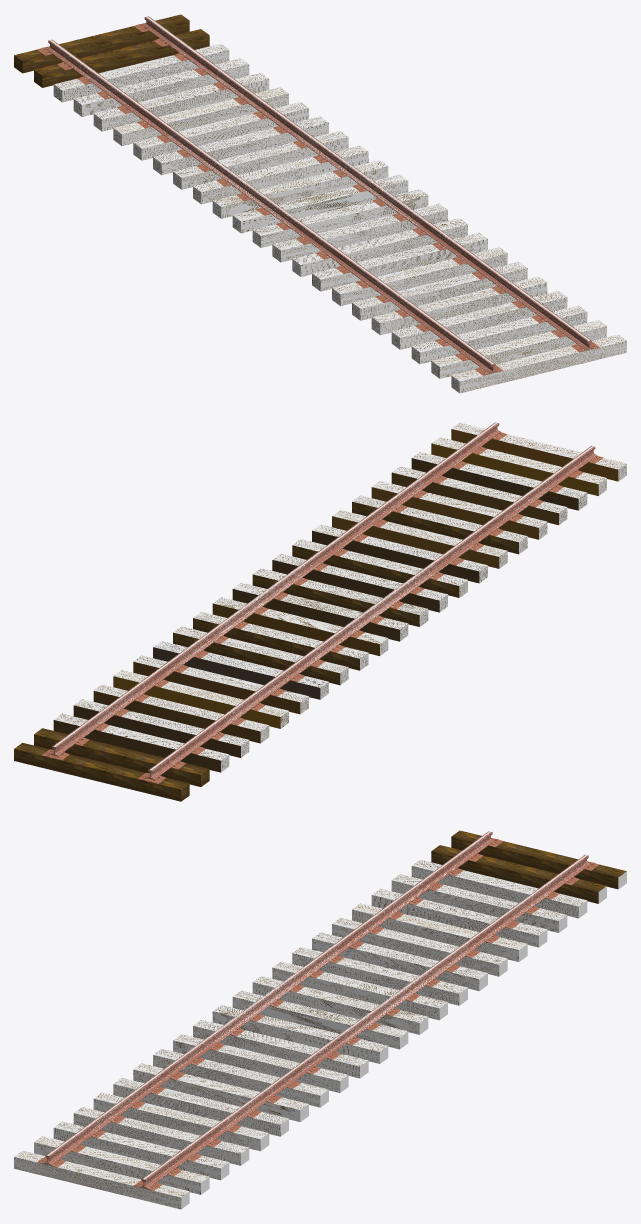
Rendered from track_39ft.fbx.
3 views of the same model, one above another, from view 1: azimuth 30°, elevation 25°; view 2: azimuth 150°, elevation 25°; view 3: azimuth 330°, elevation 25° (orthographic).
Parts seen in each view (by area): view 1: Rail (×2), Tie_With_Plate (×2), ID505, ID303, ID289, ID405, ID317, ID413, ID281, ID479, ID513, ID245 (+12 smaller); view 2: Rail (×2), Tie_With_Plate (×2), ID245, ID317, ID281, ID289, ID405, ID413, ID479, ID303, ID513, ID463 (+12 smaller); view 3: Rail (×2), Tie_With_Plate (×2), ID505, ID303, ID405, ID413, ID427, ID463, ID245, ID317, ID345, ID471 (+12 smaller).
Part boxes in pixels (x1,y1,x2,y2): Rail (×2): (46,16,593,373); Tie_With_Plate (×2): (14,14,209,87); ID505: (451,334,626,393); ID303: (53,43,229,102); ID289: (93,72,269,131); ID405: (232,174,408,233); ID317: (73,58,249,116); ID413: (252,189,428,247); ID281: (391,291,567,349); ID479: (212,160,388,218); ID513: (411,305,587,364); ID245: (371,276,547,335); Rail (×2): (50,422,596,779); Tie_With_Plate (×2): (14,728,209,801); ID245: (371,481,547,539); ID317: (73,699,249,757); ID281: (391,466,567,525); ID289: (93,684,269,743); ID405: (232,582,408,641); ID413: (252,568,428,626); ID479: (212,597,388,655); ID303: (53,713,229,772); ID513: (411,452,587,510); ID463: (352,495,527,554); Rail (×2): (43,831,590,1188); Tie_With_Plate (×2): (431,830,626,903); ID505: (14,1150,188,1209); ID303: (411,859,586,918); ID405: (232,990,407,1049); ID413: (212,1005,387,1063); ID427: (272,961,447,1020); ID463: (113,1078,288,1136); ID245: (93,1092,268,1151); ID317: (391,874,566,932); ID345: (332,917,507,976); ID471: (173,1034,347,1092).
Size of the model in its own units: 102 by 471 by 12.32.
Materials: 4 (3 with a texture image).
